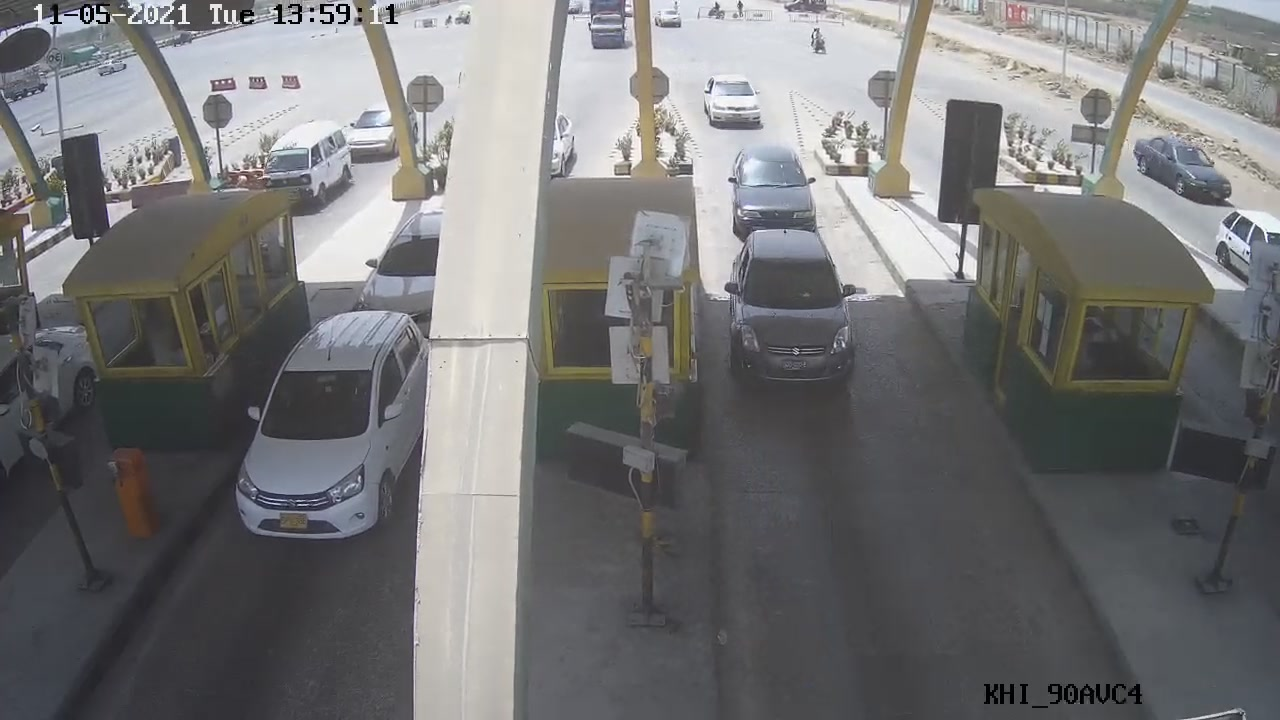F1: (715, 223, 885, 396)
